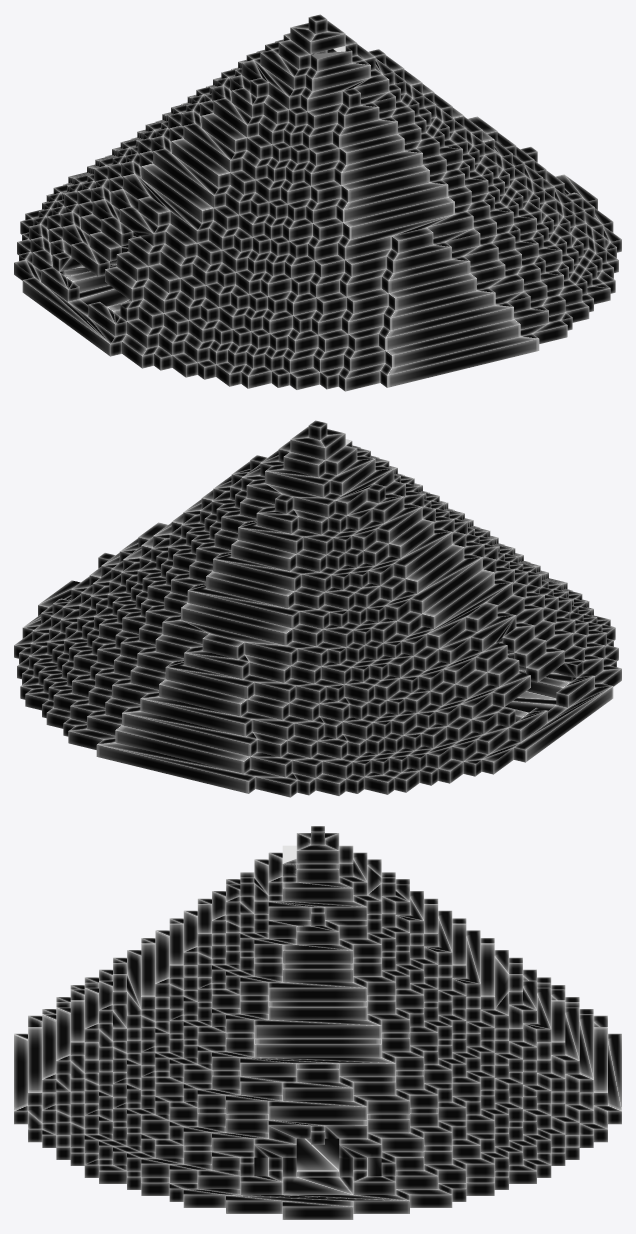
3 renders of one model, top to bottom at view 1: azimuth 30°, elevation 25°; view 2: azimuth 150°, elevation 25°; view 3: azimuth 270°, elevation 25°, orthographic. The views are drawn at different scales.
Visible parts, largest first — view 1: _016; view 2: _016; view 3: _016.
Boxes of the visible parts, x1,y1,x2,y2 form: _016: (14,14,621,391); _016: (14,420,621,797); _016: (14,826,621,1219).
Size of the model in its own units: 647 by 294 by 632.
Materials: 1 (1 with a texture image).
